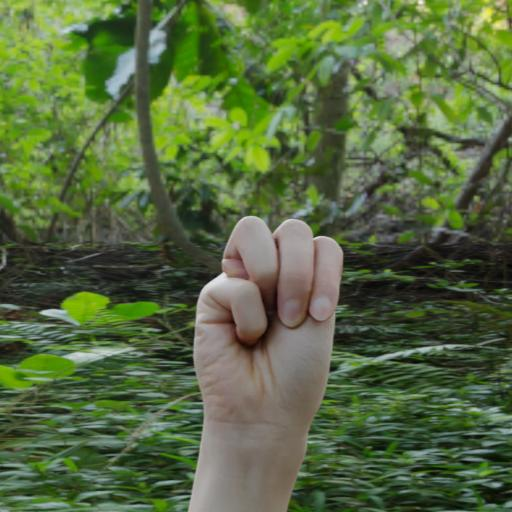M: (184, 211, 362, 449)
